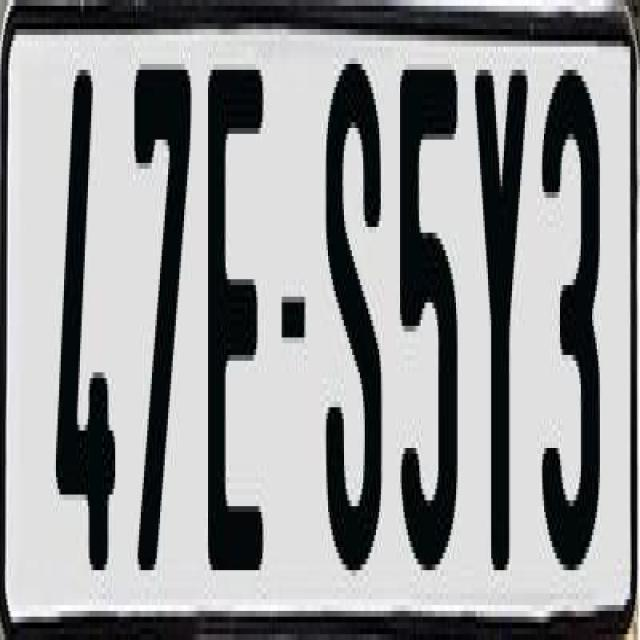3: (541, 52, 605, 558)
4: (54, 58, 124, 559)
5: (400, 52, 461, 576)
7: (130, 70, 196, 582)
E: (208, 64, 270, 576)
S: (326, 58, 386, 594)
Y: (470, 52, 525, 570)
